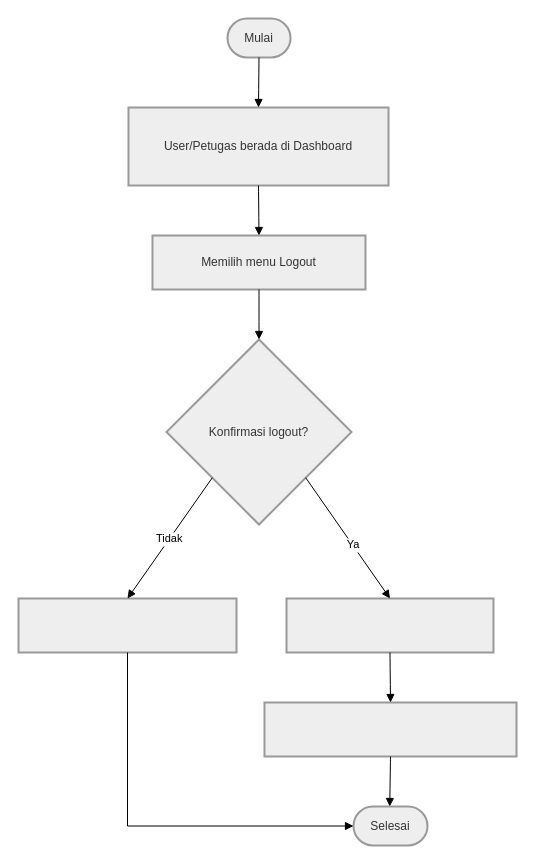
This 534x863 diagram has some shape labels left out. Here are the shapes that lost their labels. From the top down, the box of each, then its label:
(17, 597, 237, 653): Kembali ke Dashboard
(285, 597, 494, 653): Hapus session/token
(263, 701, 517, 757): Redirect ke Halaman Login
